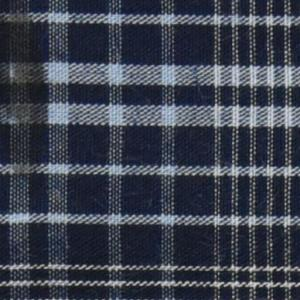Stain: (1, 1, 52, 185)
